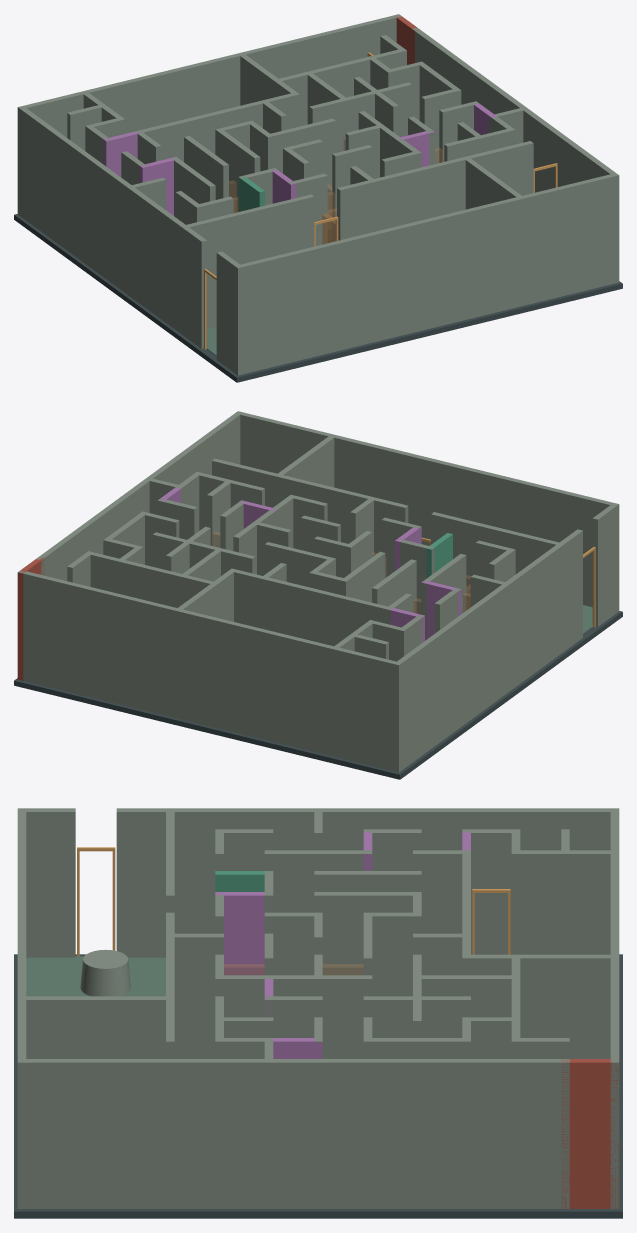
File: Quy-Mu-REV-P-S1.glb
The picture shows the model from 3 angles, top to bottom: view 1: azimuth 30°, elevation 25°; view 2: azimuth 150°, elevation 25°; view 3: azimuth 270°, elevation 25°; orthographic projection. The views are drawn at different scales.
Visible parts, largest first — view 1: object 24, object 25, object 1, object 23, object 50, object 22, object 58, object 5, object 8, object 4, object 26, object 44 (+38 smaller); view 2: object 1, object 25, object 24, object 5, object 50, object 58, object 23, object 4, object 22, object 26, object 39, object 8 (+39 smaller); view 3: object 50, object 25, object 30, object 39, object 44, object 58, object 26, C06, object 41, object 38, object 27, object 34 (+33 smaller).
Part boxes in pixels (x1=…): object 24: x1=234, y1=174, x2=619, y2=375; object 25: x1=17, y1=106, x2=207, y2=348; object 1: x1=17, y1=14, x2=401, y2=216; object 23: x1=337, y1=141, x2=533, y2=240; object 50: x1=412, y1=27, x2=619, y2=283; object 22: x1=180, y1=194, x2=314, y2=335; object 58: x1=14, y1=214, x2=622, y2=382; object 5: x1=135, y1=92, x2=299, y2=161; object 8: x1=309, y1=82, x2=411, y2=152; object 4: x1=273, y1=48, x2=406, y2=126; object 26: x1=216, y1=251, x2=243, y2=374; object 44: x1=465, y1=156, x2=525, y2=306; object 1: x1=18, y1=570, x2=402, y2=772; object 25: x1=393, y1=529, x2=582, y2=771; object 24: x1=235, y1=411, x2=619, y2=611; object 5: x1=229, y1=568, x2=392, y2=646; object 50: x1=36, y1=412, x2=242, y2=580; object 58: x1=14, y1=611, x2=622, y2=779; object 23: x1=212, y1=458, x2=408, y2=555; object 4: x1=87, y1=551, x2=218, y2=617; object 22: x1=431, y1=512, x2=564, y2=652; object 26: x1=592, y1=504, x2=619, y2=626; object 39: x1=174, y1=569, x2=236, y2=718; object 8: x1=152, y1=532, x2=255, y2=575; object 50: x1=17, y1=1059, x2=569, y2=1208; object 25: x1=116, y1=808, x2=619, y2=957; object 30: x1=511, y1=850, x2=619, y2=954; object 39: x1=463, y1=954, x2=618, y2=1058; object 44: x1=17, y1=996, x2=174, y2=1058; object 58: x1=14, y1=954, x2=622, y2=1218; object 26: x1=17, y1=808, x2=75, y2=957; C06: x1=561, y1=1059, x2=619, y2=1208; object 41: x1=215, y1=975, x2=372, y2=1058; object 38: x1=166, y1=933, x2=223, y2=1058; object 27: x1=462, y1=829, x2=519, y2=954; object 34: x1=314, y1=892, x2=421, y2=975.
Bounding box in the file's own units: 11.3 × 3.16 × 11.3.
